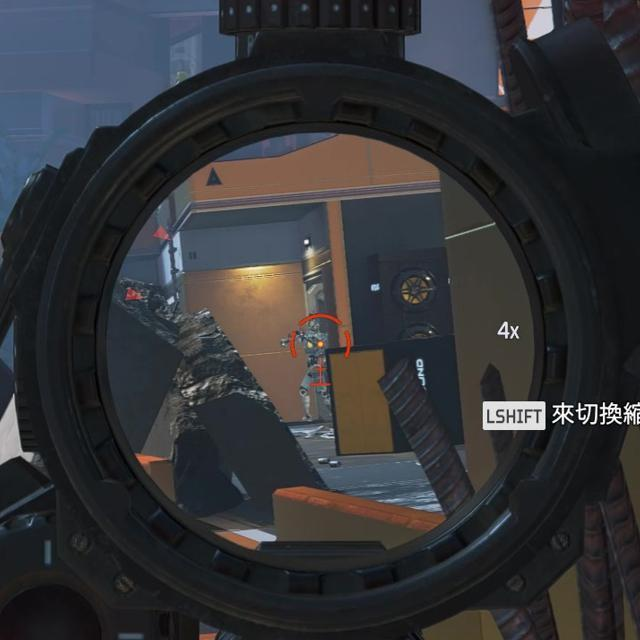avatar: (298, 319, 333, 420)
